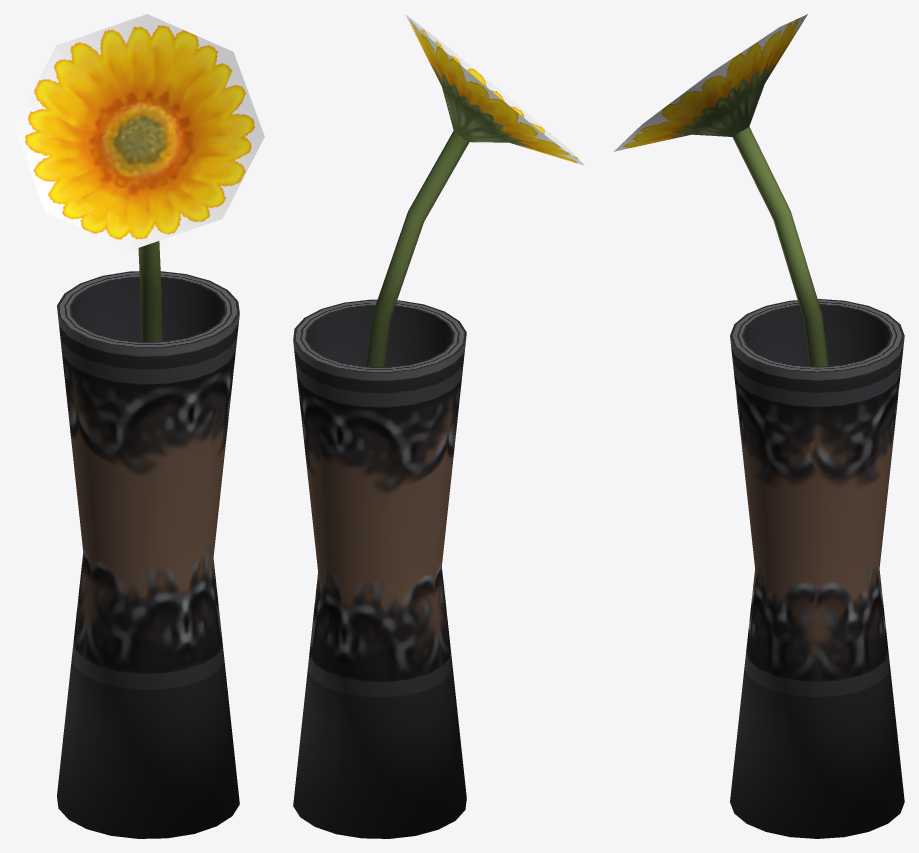
The model's file is AntiqueOneVase_HD.fbx.
3 views of the same model, side by side, from view 1: azimuth 30°, elevation 25°; view 2: azimuth 150°, elevation 25°; view 3: azimuth 270°, elevation 25° (orthographic). The views are drawn at different scales.
Parts seen in each view (by area): view 1: AntiqueOneVase; view 2: AntiqueOneVase; view 3: AntiqueOneVase.
Boxes of the visible parts, bbox=[...] form: AntiqueOneVase: bbox=[14, 14, 264, 838]; AntiqueOneVase: bbox=[293, 14, 584, 838]; AntiqueOneVase: bbox=[613, 14, 904, 838].
Bounding box in the file's own units: 0.2407 × 0.7751 × 0.2675.
